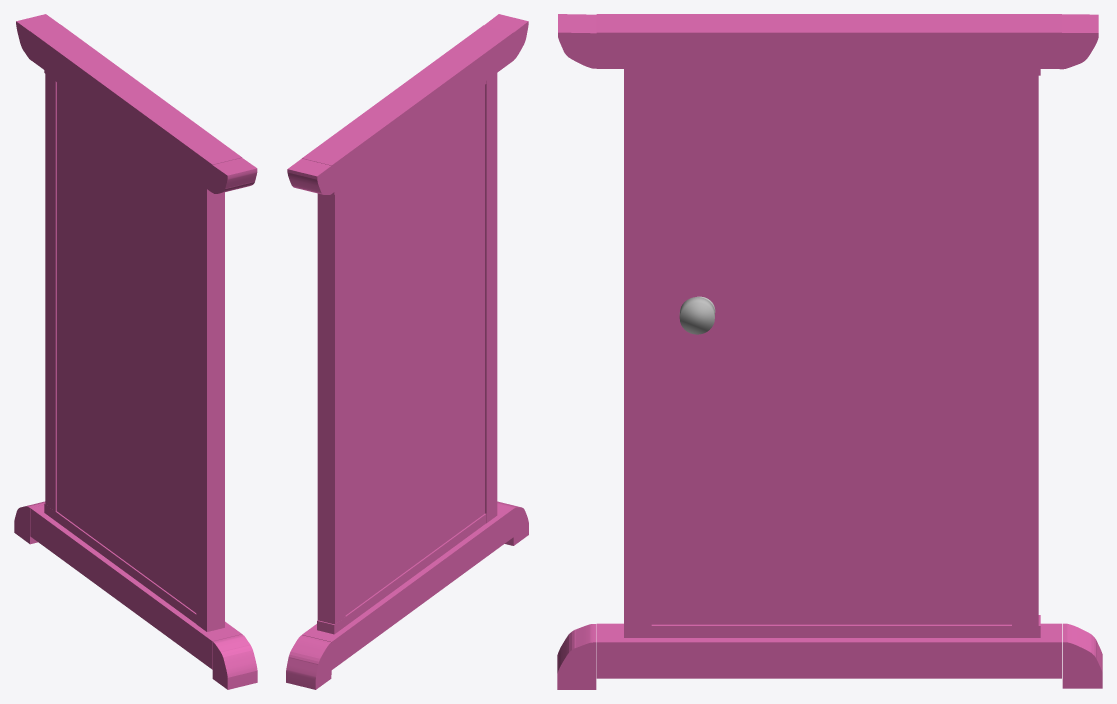
Rendered from dokodemodoa2.fbx.
3 renders of one model, left to right at view 1: azimuth 30°, elevation 25°; view 2: azimuth 150°, elevation 25°; view 3: azimuth 270°, elevation 25°, orthographic. The views are drawn at different scales.
Parts seen in each view (by area): view 1: 立方体, 立方体.001, 立方体.005, 立方体.004, 立方体.002, 立方体.007, 立方体.006, 立方体.008, 立方体.013, 立方体.011, 立方体.003; view 2: 立方体, 立方体.002, 立方体.005, 立方体.004, 立方体.001, 立方体.011, 立方体.006, 立方体.013, 立方体.008, 立方体.007, 立方体.003; view 3: 立方体, 立方体.005, 立方体.004, 立方体.001, 立方体.002, 立方体.006, 立方体.003, 立方体.011, 立方体.007, 立方体.008, 立方体.013, 円柱.001.
Boxes of the visible parts, <box> form: 立方体: <box>57,82,196,612</box>; 立方体.001: <box>196,181,224,631</box>; 立方体.005: <box>30,24,242,192</box>; 立方体.004: <box>30,505,241,669</box>; 立方体.002: <box>45,74,56,511</box>; 立方体.007: <box>212,634,257,689</box>; 立方体.006: <box>44,503,196,623</box>; 立方体.008: <box>212,158,257,193</box>; 立方体.013: <box>16,14,59,59</box>; 立方体.011: <box>14,501,45,544</box>; 立方体.003: <box>44,70,196,183</box>; 立方体: <box>345,85,484,614</box>; 立方体.002: <box>317,187,345,624</box>; 立方体.005: <box>302,25,513,193</box>; 立方体.004: <box>302,505,513,669</box>; 立方体.001: <box>485,73,497,523</box>; 立方体.011: <box>286,635,331,689</box>; 立方体.006: <box>317,513,486,634</box>; 立方体.013: <box>287,158,331,194</box>; 立方体.008: <box>484,14,528,59</box>; 立方体.007: <box>497,501,528,545</box>; 立方体.003: <box>332,81,486,194</box>; 立方体: <box>651,75,1011,624</box>; 立方体.005: <box>596,14,1061,68</box>; 立方体.004: <box>596,623,1061,678</box>; 立方体.001: <box>624,69,651,637</box>; 立方体.002: <box>1012,75,1038,625</box>; 立方体.006: <box>651,615,1040,637</box>; 立方体.003: <box>651,69,1040,75</box>; 立方体.011: <box>1062,623,1102,688</box>; 立方体.007: <box>557,624,596,689</box>; 立方体.008: <box>558,14,597,68</box>; 立方体.013: <box>1059,14,1098,69</box>; 円柱.001: <box>679,297,714,334</box>.
Size of the model in its own units: 71.73 by 904 by 680.
